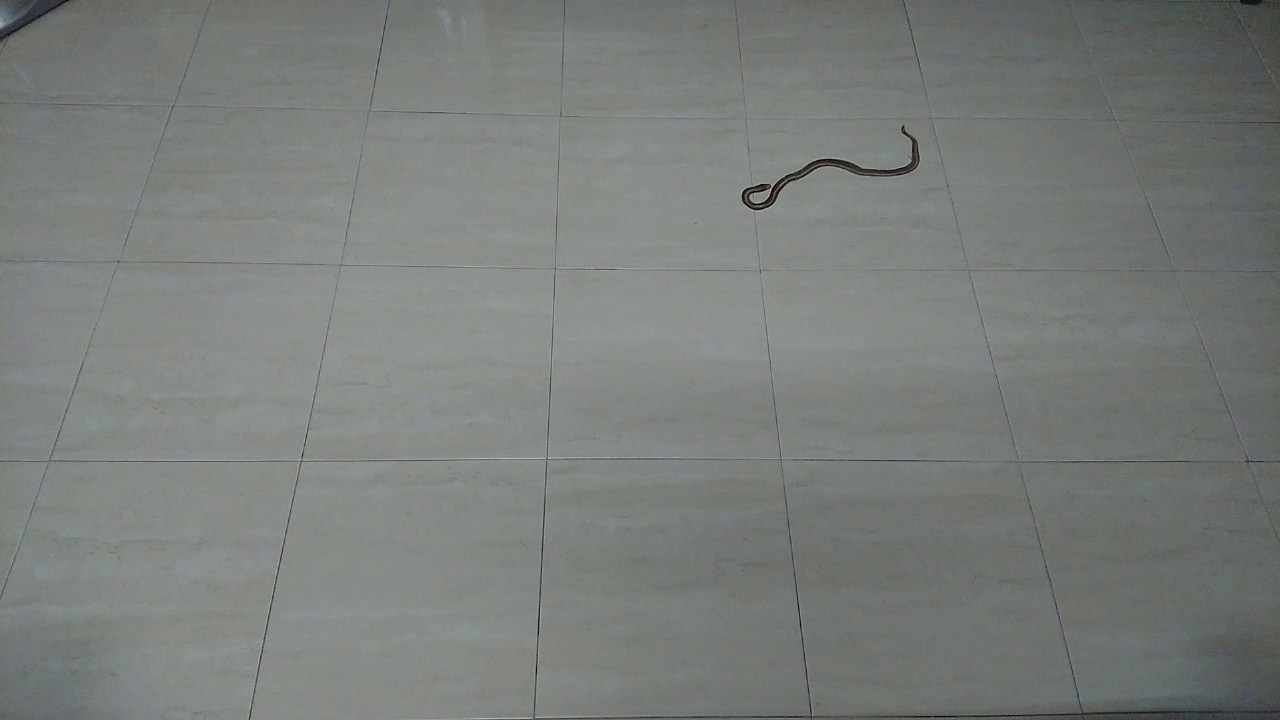snake: (727, 114, 930, 219)
